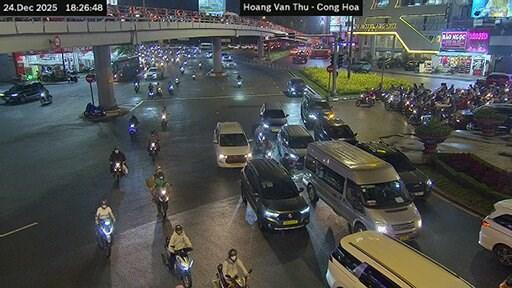motorbike: (166, 247, 192, 287), (217, 264, 246, 287), (96, 217, 112, 256), (154, 185, 166, 217), (83, 103, 105, 115), (384, 94, 402, 108), (355, 94, 374, 106), (112, 161, 121, 184), (147, 142, 156, 162), (39, 90, 51, 103), (128, 122, 134, 140), (160, 113, 166, 130), (156, 86, 162, 98), (147, 90, 153, 99), (167, 84, 172, 94), (134, 81, 138, 93), (165, 237, 169, 246), (175, 76, 179, 85), (179, 66, 184, 73), (236, 79, 240, 86), (192, 72, 195, 79), (198, 63, 201, 67)
